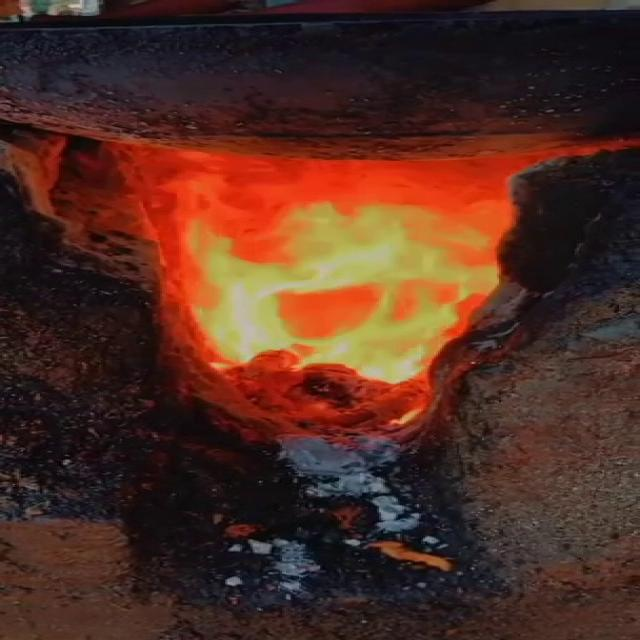Fire: (13, 136, 577, 456)
